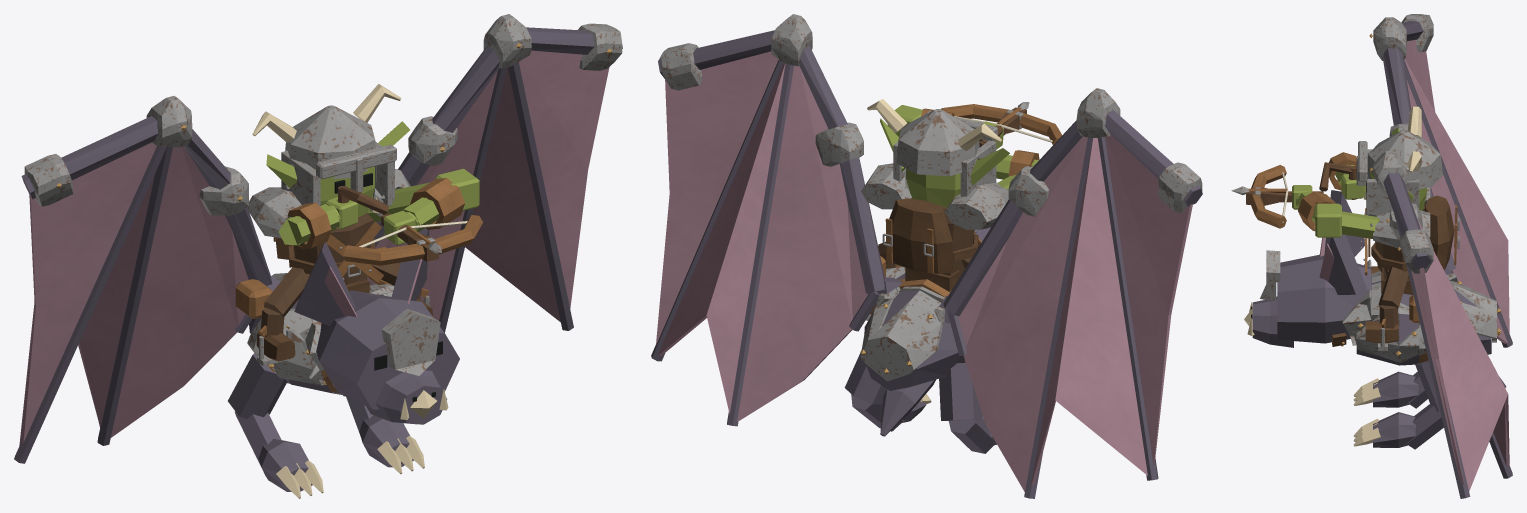
File: host_25.glb
3 views of the same model, side by side, from view 1: azimuth 30°, elevation 25°; view 2: azimuth 150°, elevation 25°; view 3: azimuth 270°, elevation 25° (orthographic). The views are drawn at different scales.
Parts seen in each view (by area): view 1: Bat connected true small ivory nose and dark volumetric muzz, Rider one connected body, skull, ears, two arms, compact pal, Source iron actual supported wing elbow and wrist armor (1,  (×3), Source iron actual supported wing elbow and wrist armor (-1, (×3), Rider actual source eight-plane pointed helmet, Source iron actual fitted pointed skull armor, Iron25 source broad pointed RIGHT body armor, Rider single transverse two-limb crossbow stave, Rider actual convex three-plane source pauldron 1, Rider LEFT actual open sleeve cuff, Rider real shaped source torso clothing shell, Rider actual continuous source forehead brow band (+5 smaller); view 2: Bat connected true small ivory nose and dark volumetric muzz, Iron25 source broad pointed REAR body armor, Source iron actual supported wing elbow and wrist armor (-1, (×3), Source iron actual supported wing elbow and wrist armor (1,  (×3), Rider actual source eight-plane pointed helmet, Rider actual source broad rear leather pack, Rider one connected body, skull, ears, two arms, compact pal, Rider actual convex three-plane source pauldron 1, Rider actual convex three-plane source pauldron -1, Rider single transverse two-limb crossbow stave, Rider flat helmet cheek edge 1, Rider real shaped source torso clothing shell (+1 smaller); view 3: Bat connected true small ivory nose and dark volumetric muzz, Rider one connected body, skull, ears, two arms, compact pal, Iron25 source broad pointed LEFT body armor, Rider actual source eight-plane pointed helmet, Source iron actual supported wing elbow and wrist armor (-1, (×3), Source iron actual supported wing elbow and wrist armor (1,  (×2), Iron25 source broad pointed REAR body armor, Rider actual source broad rear leather pack, Rider single transverse two-limb crossbow stave, Rider flat helmet cheek edge -1, Rider actual convex three-plane source pauldron -1, Source iron actual fitted pointed skull armor (+8 smaller).
Part boxes in pixels (x1,y1,x2,y2): Bat connected true small ivory nose and dark volumetric muzz: (14, 27, 622, 498); Rider one connected body, skull, ears, two arms, compact pal: (256, 121, 479, 361); Source iron actual supported wing elbow and wrist armor (1,  (×3): (24, 95, 248, 215); Source iron actual supported wing elbow and wrist armor (-1, (×3): (408, 14, 622, 165); Rider actual source eight-plane pointed helmet: (285, 105, 375, 178); Source iron actual fitted pointed skull armor: (381, 308, 440, 375); Iron25 source broad pointed RIGHT body armor: (247, 308, 324, 385); Rider single transverse two-limb crossbow stave: (344, 215, 482, 265); Rider actual convex three-plane source pauldron 1: (247, 187, 301, 237); Rider LEFT actual open sleeve cuff: (410, 178, 464, 229); Rider real shaped source torso clothing shell: (293, 212, 373, 285); Rider actual continuous source forehead brow band: (316, 144, 396, 179); Bat connected true small ivory nose and dark volumetric muzz: (651, 30, 1202, 498); Iron25 source broad pointed REAR body armor: (860, 286, 944, 381); Source iron actual supported wing elbow and wrist armor (-1, (×3): (660, 14, 863, 166); Source iron actual supported wing elbow and wrist armor (1,  (×3): (1008, 88, 1202, 216); Rider actual source eight-plane pointed helmet: (896, 109, 979, 176); Rider actual source broad rear leather pack: (889, 198, 952, 273); Rider one connected body, skull, ears, two arms, compact pal: (878, 105, 1038, 275); Rider actual convex three-plane source pauldron 1: (945, 182, 1008, 229); Rider actual convex three-plane source pauldron -1: (861, 163, 912, 209); Rider single transverse two-limb crossbow stave: (941, 104, 1062, 144); Rider flat helmet cheek edge 1: (960, 140, 996, 196); Rider real shaped source torso clothing shell: (910, 192, 974, 271); Bat connected true small ivory nose and dark volumetric muzz: (1244, 21, 1512, 498); Rider one connected body, skull, ears, two arms, compact pal: (1292, 127, 1426, 343); Iron25 source broad pointed LEFT body armor: (1342, 282, 1426, 362); Rider actual source eight-plane pointed helmet: (1367, 130, 1442, 190); Source iron actual supported wing elbow and wrist armor (-1, (×3): (1373, 151, 1433, 273); Source iron actual supported wing elbow and wrist armor (1,  (×2): (1373, 14, 1433, 60); Iron25 source broad pointed REAR body armor: (1446, 273, 1496, 342); Rider actual source broad rear leather pack: (1424, 195, 1454, 269); Rider single transverse two-limb crossbow stave: (1248, 165, 1286, 228); Rider flat helmet cheek edge -1: (1366, 179, 1419, 216); Rider actual convex three-plane source pauldron -1: (1373, 210, 1430, 248); Source iron actual fitted pointed skull armor: (1260, 250, 1280, 300).
Size of the model in its own units: 5.59 by 3.73 by 2.8.
Materials: 38 (37 with a texture image).
